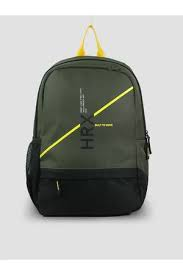backpack: (19, 18, 162, 229)
